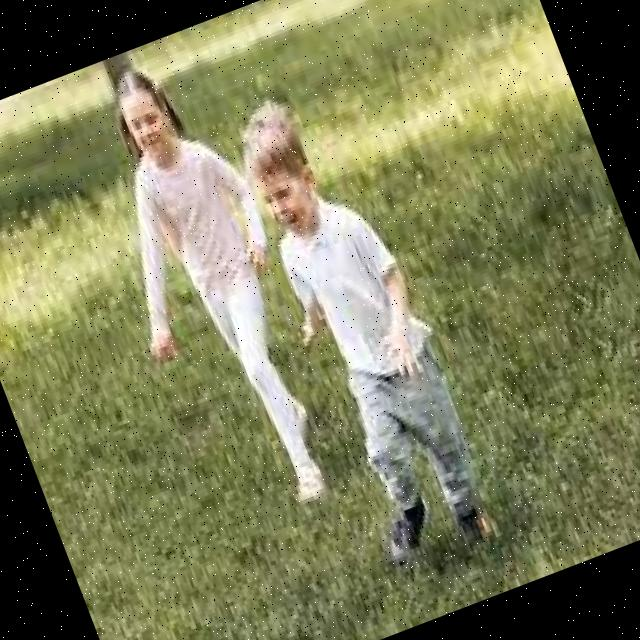Person: (55, 45, 361, 532), (222, 75, 506, 560)
